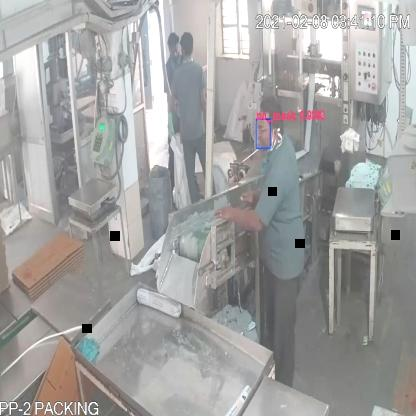no_glove: (210, 195, 269, 243)
